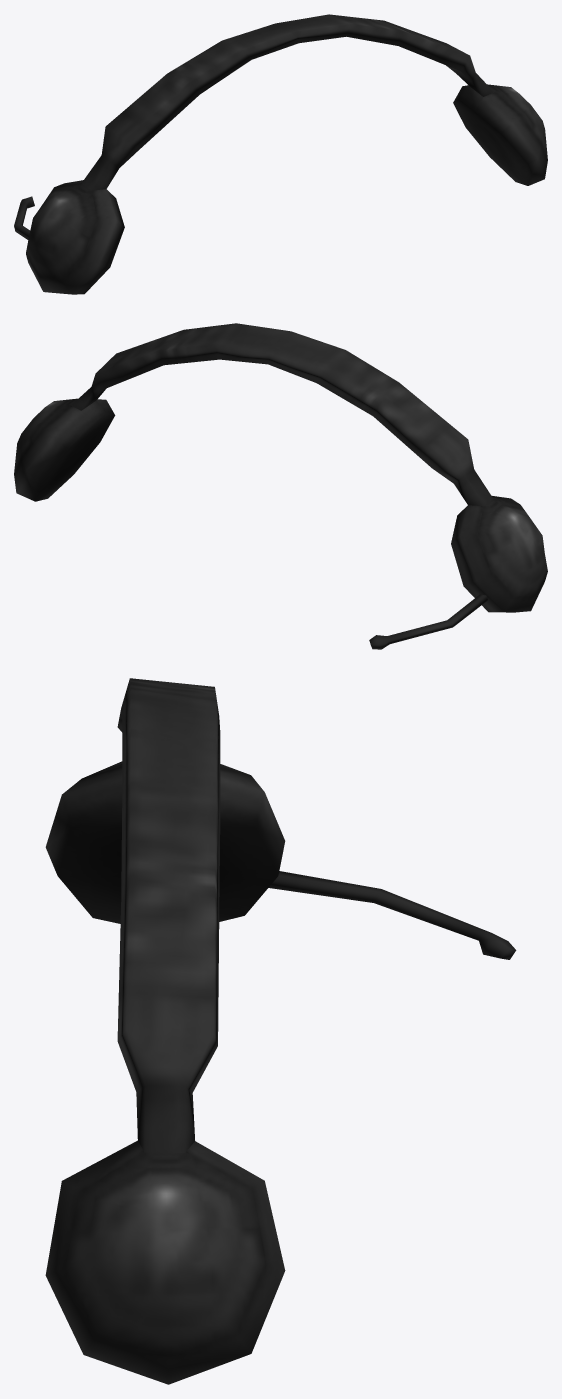
File: headphone3.glb
3 views of the same model, one above another, from view 1: azimuth 30°, elevation 25°; view 2: azimuth 150°, elevation 25°; view 3: azimuth 270°, elevation 25° (orthographic). The views are drawn at different scales.
Parts seen in each view (by area): view 1: headphone3; view 2: headphone3; view 3: headphone3.
Part boxes in pixels (<box>): headphone3: <box>14,14,547,294</box>; headphone3: <box>14,323,547,649</box>; headphone3: <box>45,678,516,1384</box>.
Bounding box in the file's own units: 1.73 × 0.6937 × 0.6964.
Materials: 1 (1 with a texture image).
